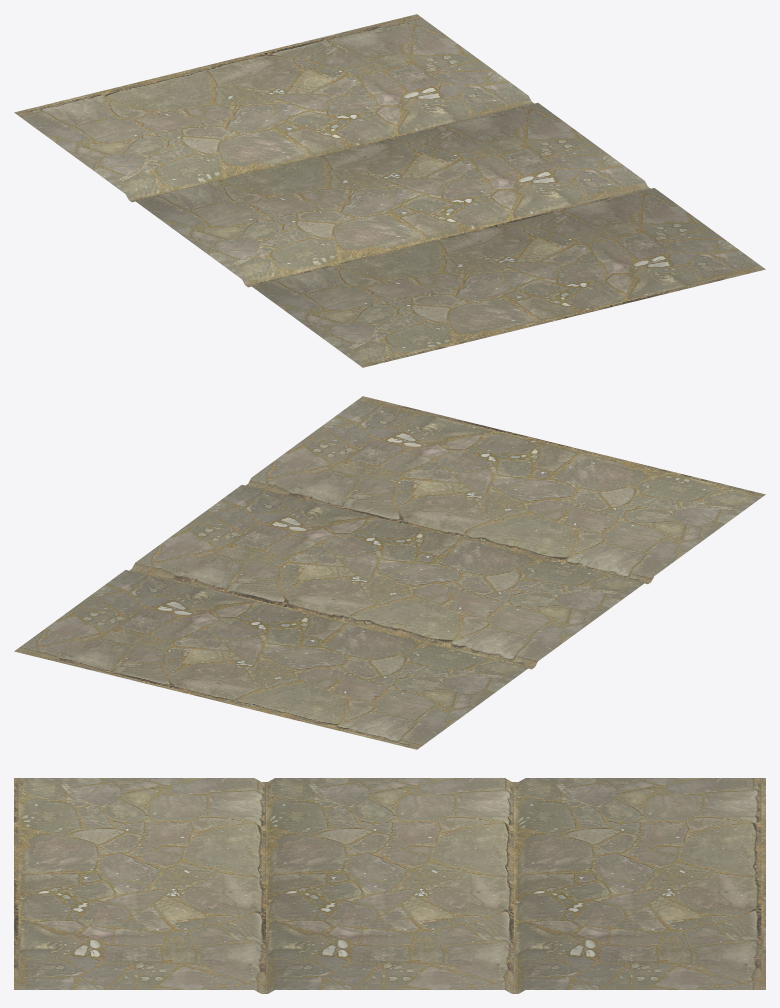
Rendered from roads-collection.glb.
3 views of the same model, one above another, from view 1: azimuth 30°, elevation 25°; view 2: azimuth 150°, elevation 25°; view 3: azimuth 270°, elevation 25° (orthographic). The views are drawn at different scales.
Visible parts, largest first — view 1: Plane.003; view 2: Plane.003; view 3: Plane.003.
Part boxes in pixels (x1,y1,x2,y2): Plane.003: (14,14,765,367); Plane.003: (14,396,765,749); Plane.003: (14,778,765,993).
Bounding box in the file's own units: 3.97 × 0.0334 × 5.95.
1 material, 1 textured.
